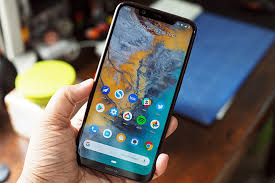nokia: (74, 3, 204, 183)
